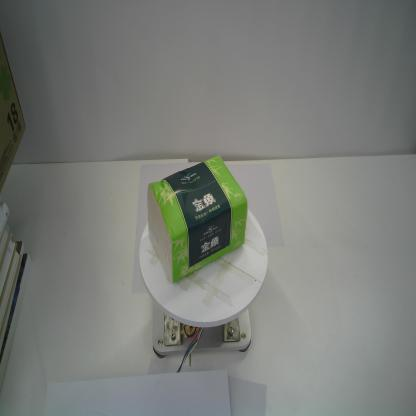Tissue: (146, 153, 249, 285)
